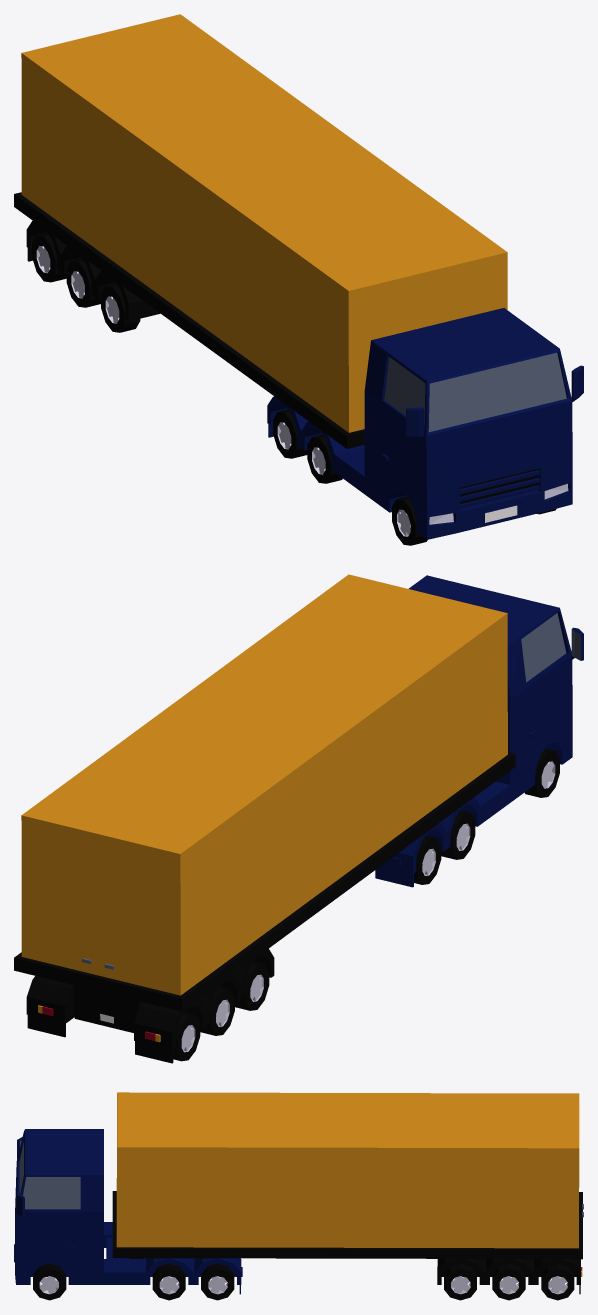
Rendered from truck.glb.
3 renders of one model, top to bottom at view 1: azimuth 30°, elevation 25°; view 2: azimuth 150°, elevation 25°; view 3: azimuth 270°, elevation 25°, orthographic. The views are drawn at different scales.
Parts seen in each view (by area): view 1: Cube.006_6; view 2: Cube.006_6; view 3: Cube.006_6.
Boxes of the visible parts, x1,y1,x2,y2 form: Cube.006_6: [14, 14, 583, 545]; Cube.006_6: [14, 574, 583, 1063]; Cube.006_6: [14, 1092, 583, 1300].
Bounding box in the file's own units: 3.41 × 4.05 × 13.42.
Materials: 1 (1 with a texture image).
